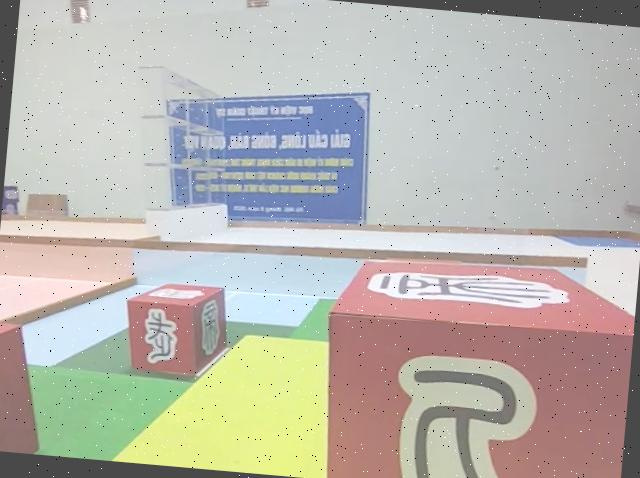R2 Fake: (315, 246, 638, 478), (121, 280, 234, 379)
R2 Real: (0, 322, 50, 454)
